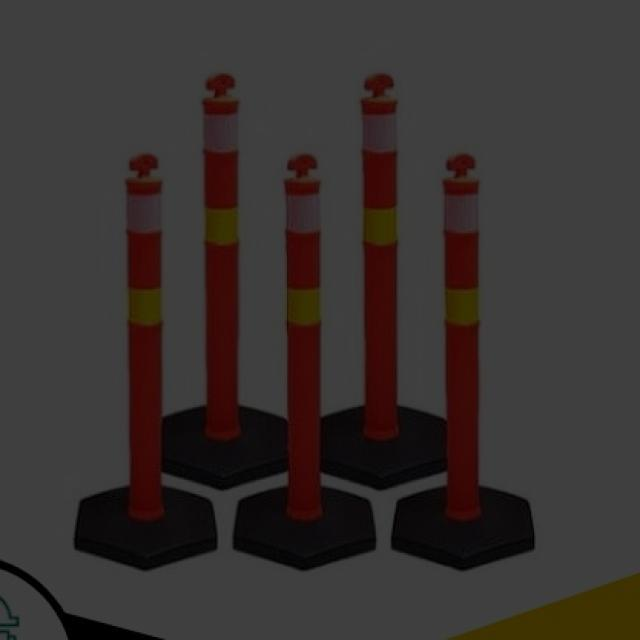Bollard: (278, 148, 329, 516), (436, 149, 487, 516), (356, 70, 406, 438), (120, 148, 169, 516), (200, 70, 245, 437)
